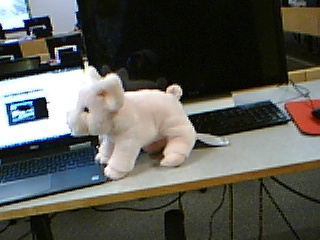piggy: (64, 64, 198, 181)
